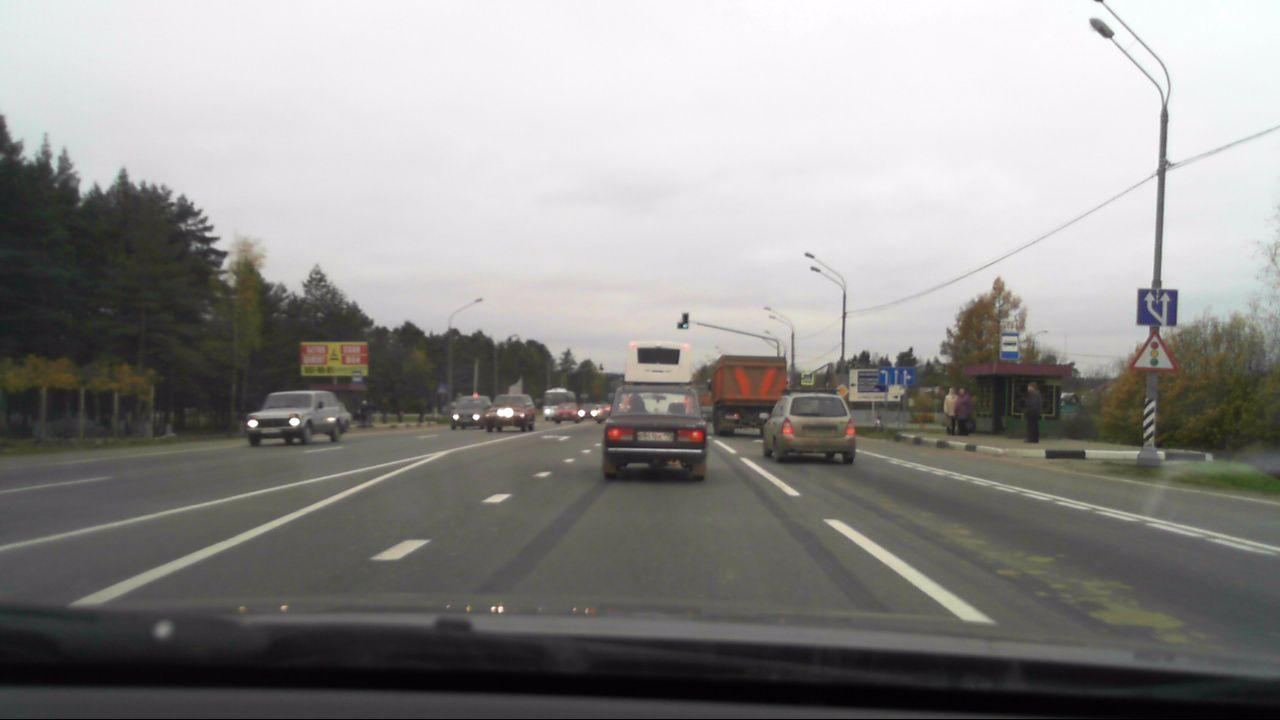1_8: (1130, 331, 1178, 371)
5_15_1: (879, 367, 916, 384)
5_15_4: (1135, 287, 1175, 327)
5_16: (1000, 331, 1019, 360)
